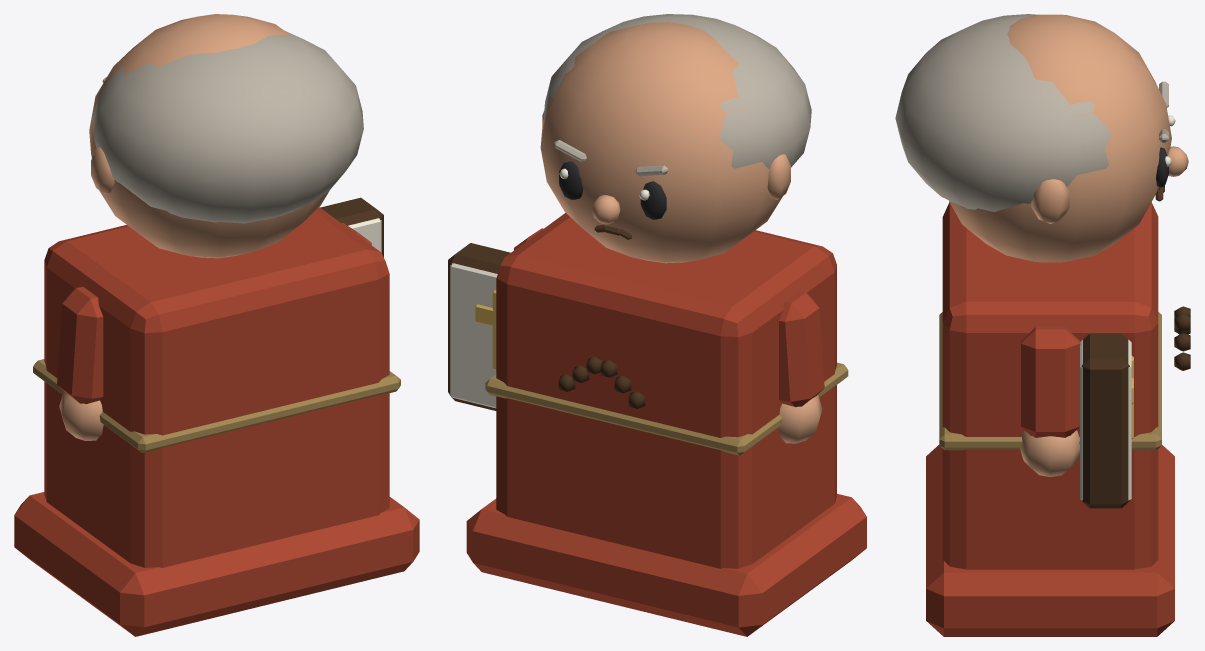
The model's file is friar_odo.fbx.
The picture shows the model from 3 angles, left to right: view 1: azimuth 30°, elevation 25°; view 2: azimuth 150°, elevation 25°; view 3: azimuth 270°, elevation 25°; orthographic projection. The views are drawn at different scales.
Parts seen in each view (by area): view 1: Body, Head, ArmL, Weapon; view 2: Body, Head, Weapon, ArmL; view 3: Body, Head, Weapon, ArmR.
Boxes of the visible parts, x1,y1,x2,y2 form: Body: (14,207,419,636); Head: (89,14,363,258); ArmL: (57,287,103,440); Weapon: (320,197,383,257); Body: (466,213,866,636); Head: (540,14,811,263); Weapon: (448,243,510,410); ArmL: (778,291,824,443); Body: (926,202,1190,636); Head: (895,14,1188,262); Weapon: (1080,333,1133,508); ArmR: (1020,326,1080,476).
Size of the model in its own units: 0.5754 by 0.4283 by 0.8721.
